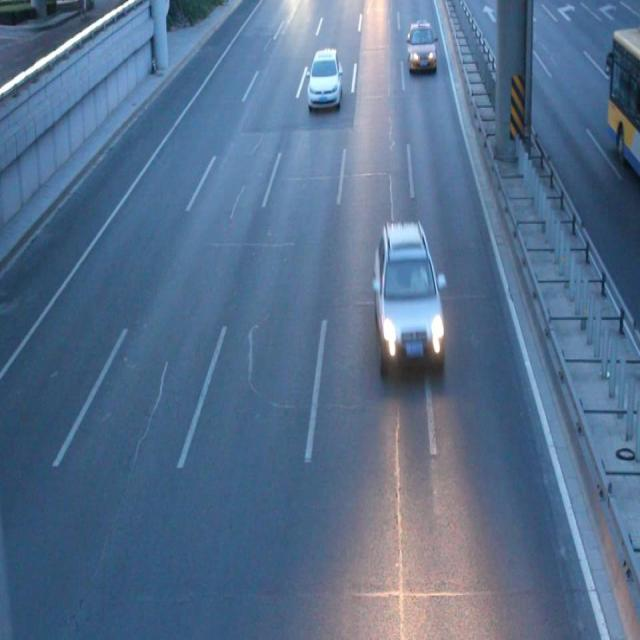car: (369, 224, 444, 373), (306, 46, 341, 108), (406, 22, 436, 70)
